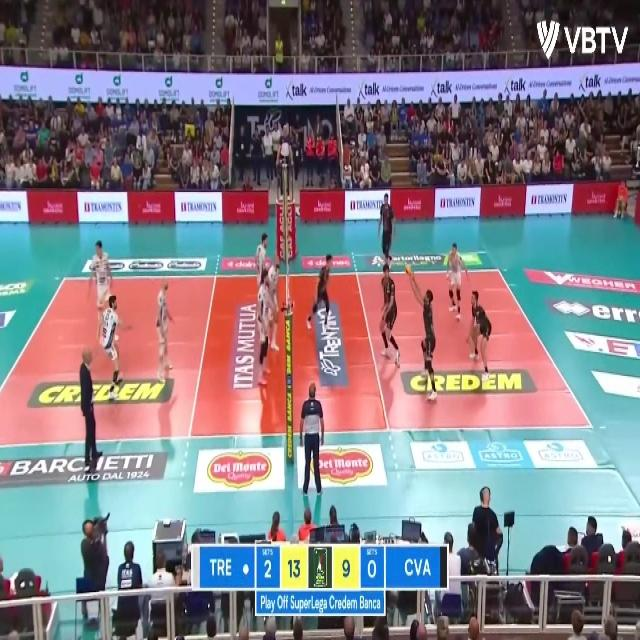volleyball court: (0, 264, 597, 441)
